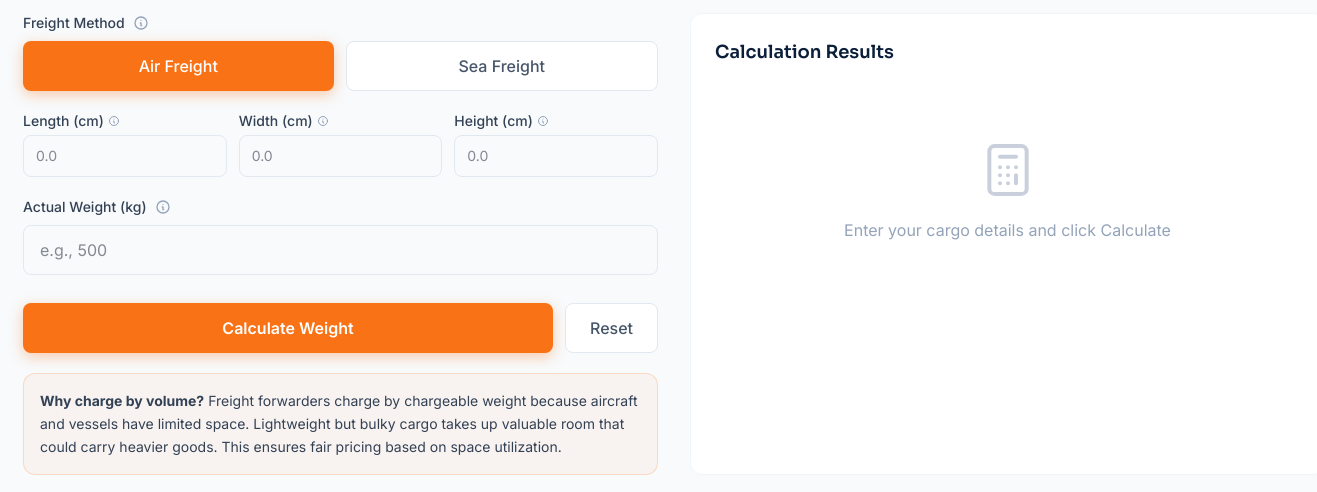
Test: ChargeableWeightCalculator › shows formula correct for sea freight
This screenshot has width=1317, height=492.
Click the button "Sea Freight".
click(502, 66)  # box x1=346 y1=41 x2=658 y2=91
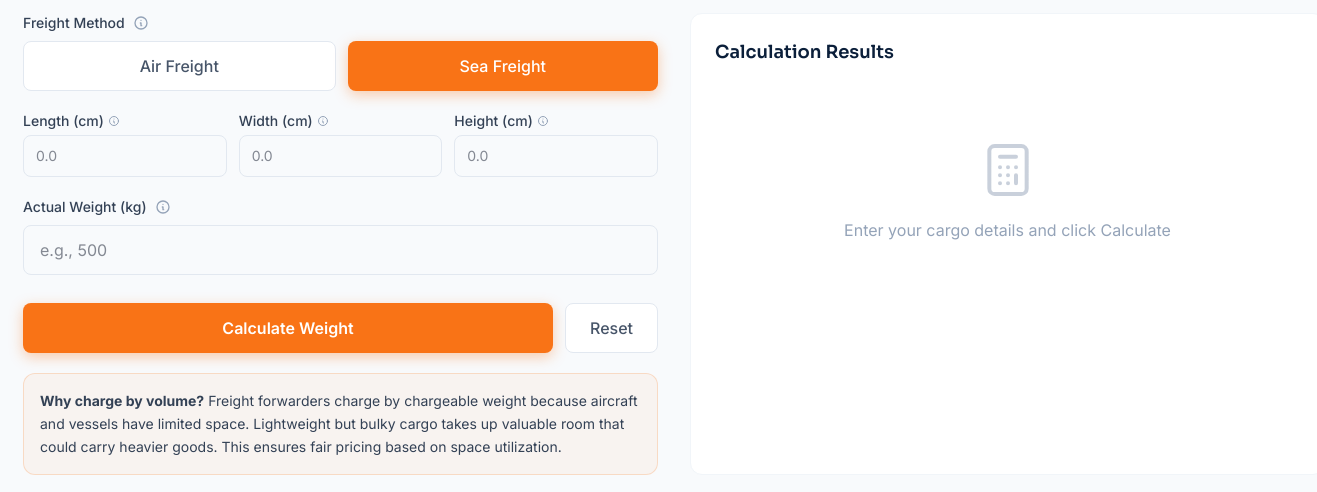
Type "100" into the number field named "length in centimeters".
click(125, 156); type("100")  # box x1=23 y1=135 x2=227 y2=177
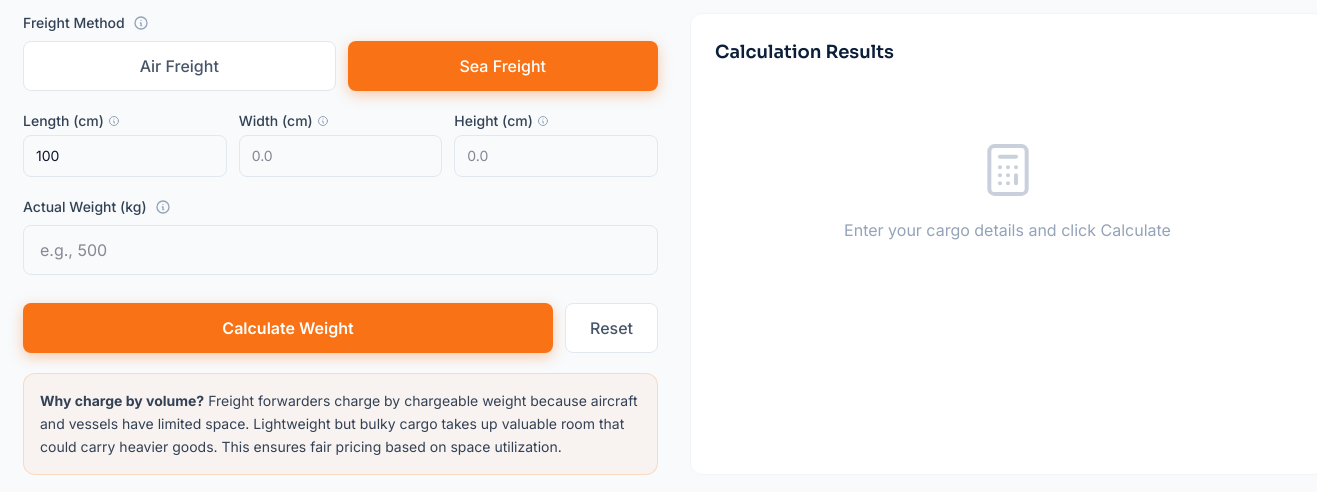
Type "100" into the number field named "width in centimeters".
click(341, 156); type("100")  # box x1=239 y1=135 x2=442 y2=177
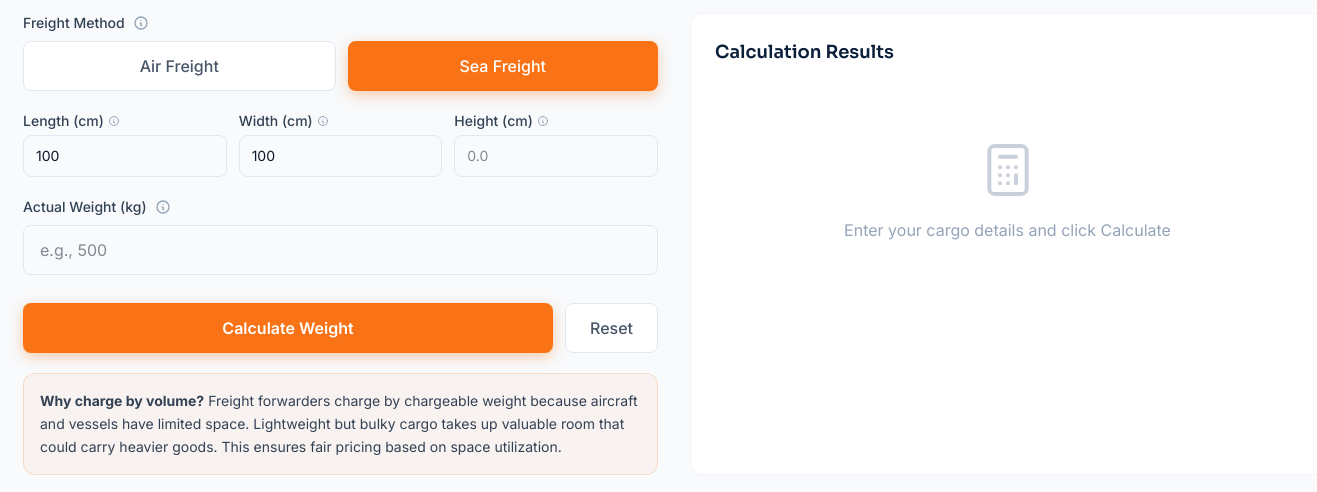
Type "100" into the number field named "height in centimeters".
click(556, 156); type("100")  # box x1=454 y1=135 x2=658 y2=177
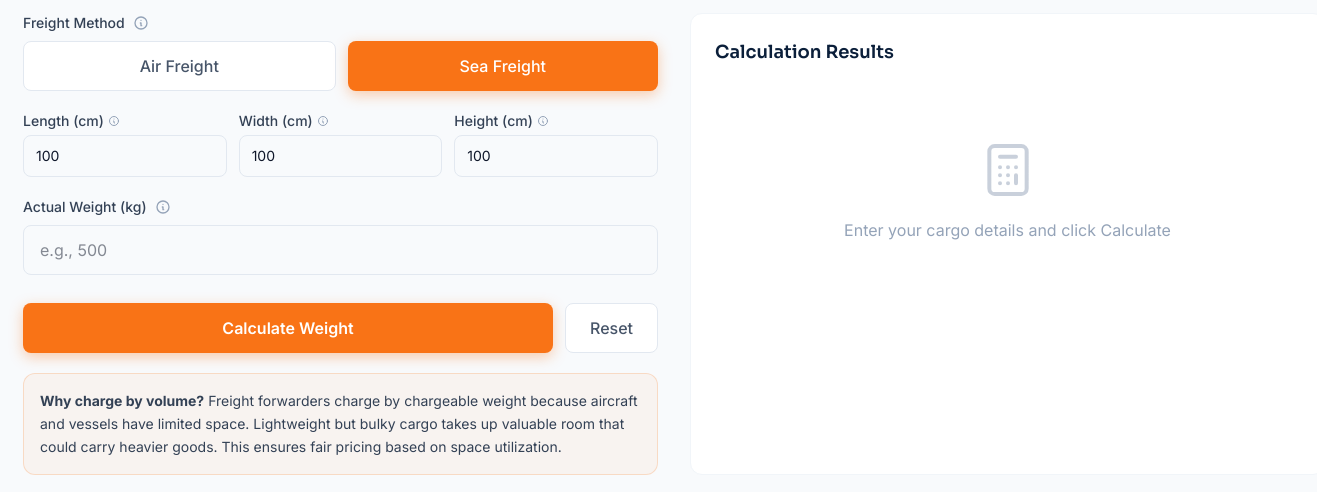
Type "50" into the number field named "actual weight in kilograms".
click(340, 250); type("50")  # box x1=23 y1=225 x2=658 y2=275
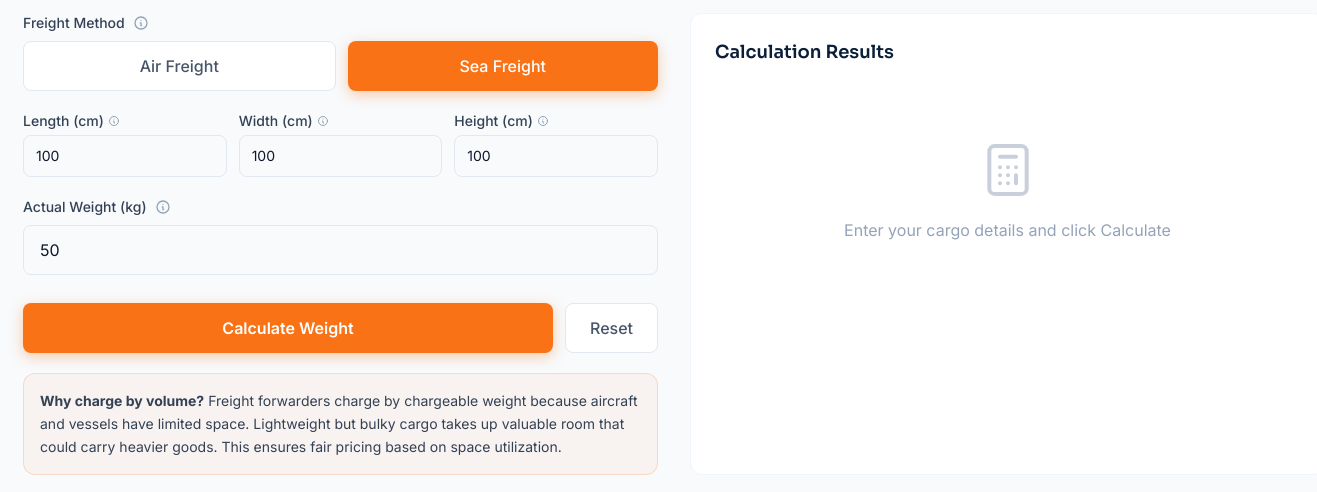
Click the button "Calculate Weight".
click(288, 328)  # box x1=23 y1=303 x2=553 y2=353
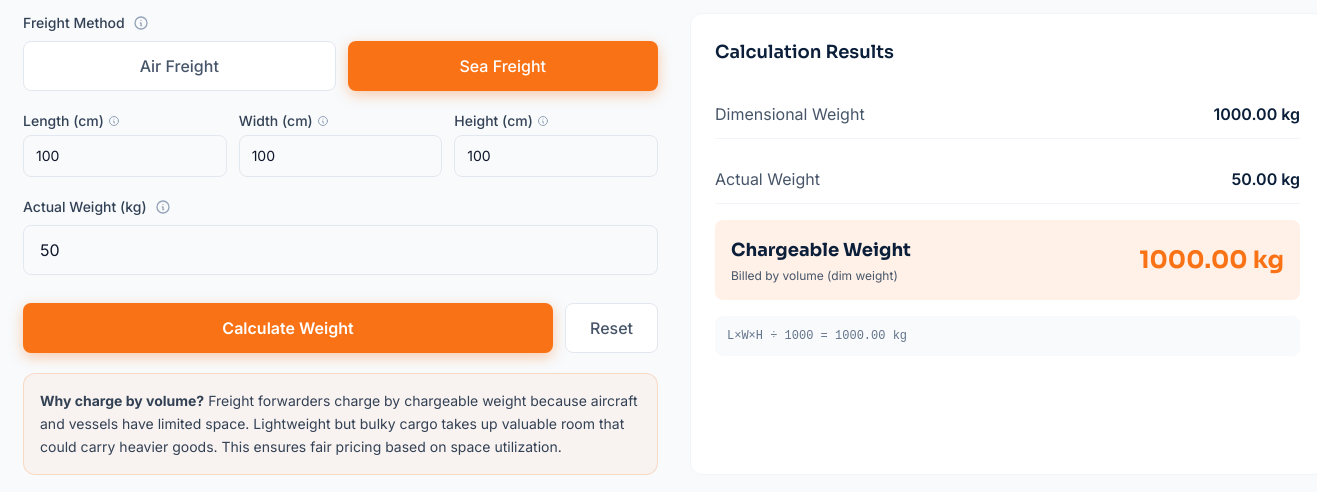
Result: the text "L×W×H ÷ 1000 = 1000.00 kg" is shown at x1=727 y1=329 x2=907 y2=343
